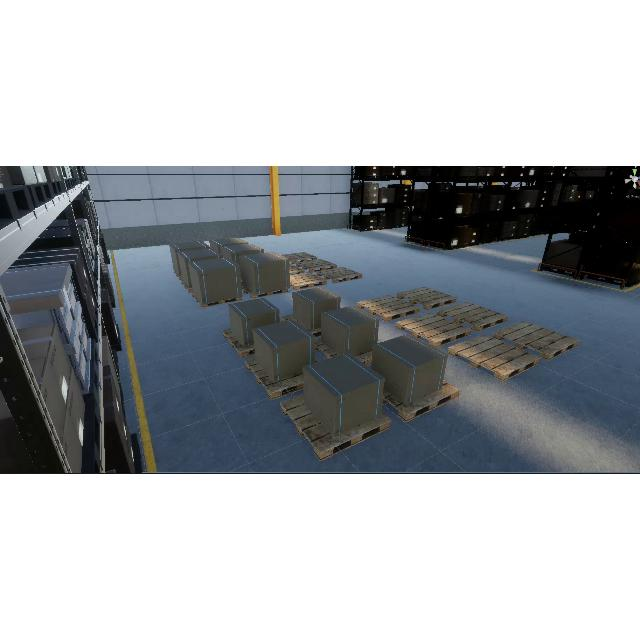wooden_pallet: (278, 394, 393, 461), (447, 333, 540, 380), (494, 318, 580, 361), (244, 356, 305, 398), (397, 312, 472, 346), (438, 301, 510, 331), (357, 294, 421, 322), (397, 284, 458, 311), (222, 325, 256, 357), (316, 266, 364, 284), (191, 292, 244, 308), (242, 282, 290, 298), (288, 272, 328, 289), (296, 259, 338, 272), (281, 251, 318, 263), (288, 263, 304, 275)
